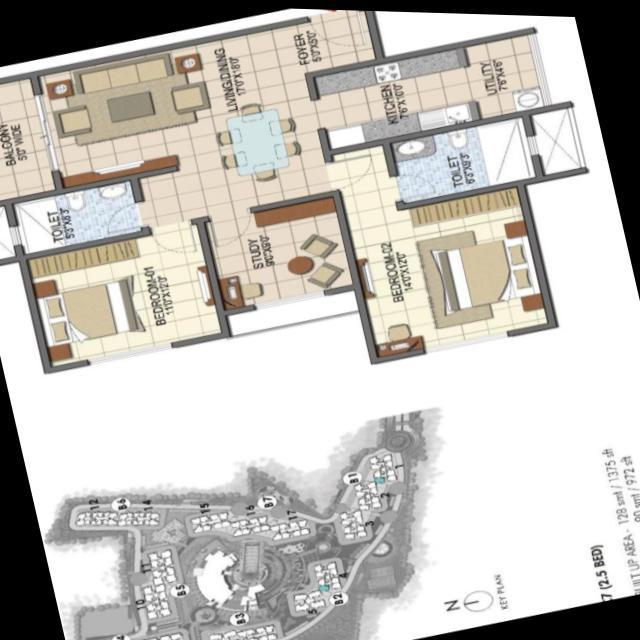Balcony-Sitout: (0, 68, 62, 204)
Bedroom: (340, 177, 558, 361), (18, 212, 235, 374)
Dining: (208, 94, 309, 186)
Enterance-Foyer: (301, 7, 374, 66)
Kitchen: (303, 22, 557, 152)
Living: (28, 47, 179, 195)
Toilet: (381, 108, 543, 207), (4, 171, 150, 260)
